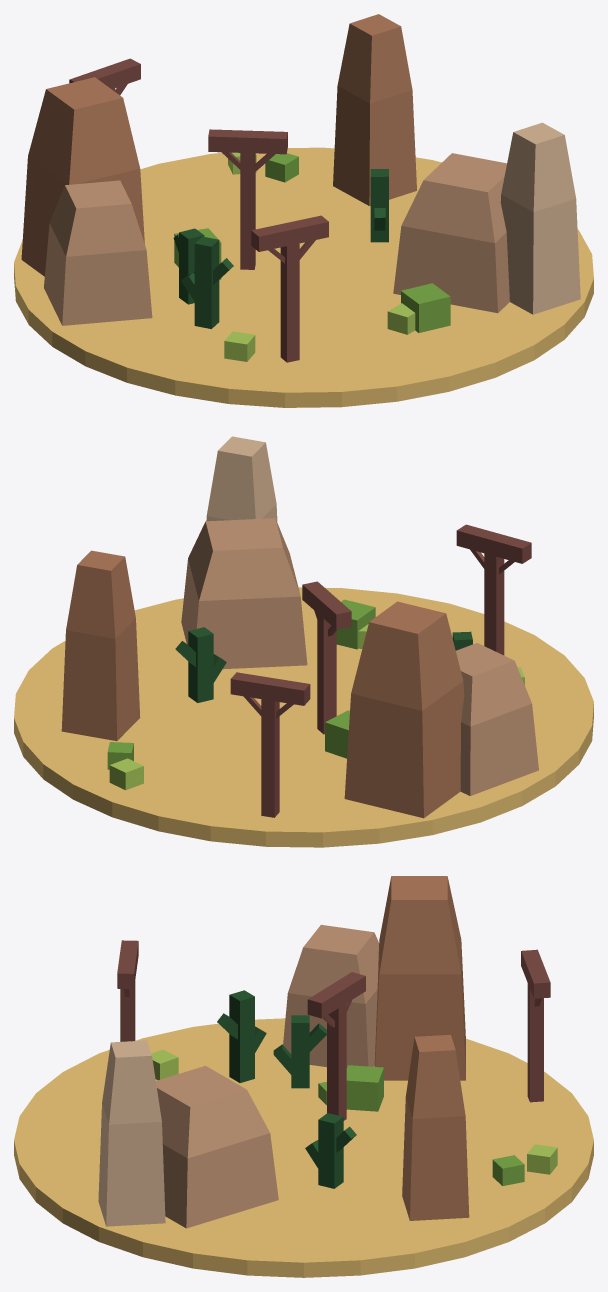
The model's file is MapDesert.fbx.
3 renders of one model, top to bottom at view 1: azimuth 30°, elevation 25°; view 2: azimuth 150°, elevation 25°; view 3: azimuth 270°, elevation 25°, orthographic.
Visible parts, largest first — view 1: BASE, Rock.002, Rock, Rock.001, Rock.004, Rock.003, Cube.014, Cube.005, Cube.020, Cube.015, Cube.028, Cube.021 (+6 smaller); view 2: BASE, Rock.001, Rock.002, Rock.004, Rock, Rock.003, Cube.022, Cube.021, Cube.014, Cube.023, Cube.015, Cube.008 (+5 smaller); view 3: BASE, Rock.002, Rock.001, Rock.003, Rock.004, Rock, Cube.005, Cube.021, Cube.022, Cube.008, Cube.027, Cube.020 (+7 smaller).
Part boxes in pixels (bbox=[...]): BASE: bbox=[14, 147, 593, 407]; Rock.002: bbox=[393, 153, 509, 313]; Rock: bbox=[44, 180, 152, 325]; Rock.001: bbox=[21, 77, 144, 276]; Rock.004: bbox=[333, 14, 416, 205]; Rock.003: bbox=[500, 122, 580, 314]; Cube.014: bbox=[280, 243, 299, 362]; Cube.005: bbox=[194, 236, 219, 328]; Cube.020: bbox=[208, 129, 287, 154]; Cube.015: bbox=[251, 215, 328, 251]; Cube.028: bbox=[401, 283, 450, 332]; Cube.021: bbox=[240, 153, 255, 269]; BASE: bbox=[14, 587, 593, 847]; Rock.001: bbox=[344, 601, 464, 818]; Rock.002: bbox=[181, 518, 307, 669]; Rock.004: bbox=[61, 550, 140, 741]; Rock: bbox=[456, 643, 538, 795]; Rock.003: bbox=[206, 436, 277, 521]; Cube.022: bbox=[261, 699, 279, 817]; Cube.021: bbox=[317, 613, 336, 734]; Cube.014: bbox=[484, 553, 504, 655]; Cube.023: bbox=[230, 672, 310, 705]; Cube.015: bbox=[456, 524, 531, 563]; Cube.008: bbox=[188, 627, 213, 702]; BASE: bbox=[14, 1018, 593, 1277]; Rock.002: bbox=[156, 1065, 278, 1228]; Rock.001: bbox=[374, 876, 465, 1080]; Rock.003: bbox=[98, 1040, 165, 1226]; Rock.004: bbox=[402, 1034, 469, 1220]; Rock: bbox=[283, 924, 379, 1067]; Cube.005: bbox=[229, 990, 254, 1082]; Cube.021: bbox=[327, 1003, 346, 1120]; Cube.022: bbox=[527, 983, 543, 1102]; Cube.008: bbox=[318, 1113, 343, 1188]; Cube.027: bbox=[346, 1065, 383, 1111]; Cube.020: bbox=[307, 972, 365, 1018].
Bounding box in the file's own units: 1175 × 1175 × 422.
Materials: 1 (1 with a texture image).
